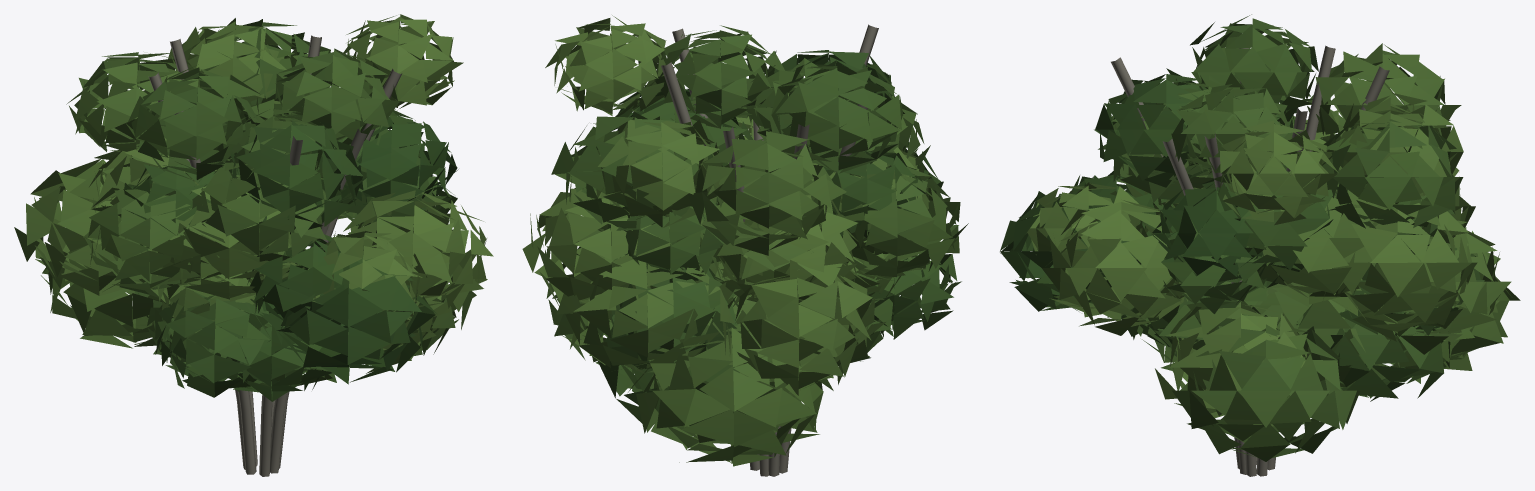
Rendered from sitka-alder-lod0.glb.
3 renders of one model, left to right at view 1: azimuth 30°, elevation 25°; view 2: azimuth 150°, elevation 25°; view 3: azimuth 270°, elevation 25°, orthographic.
Visible parts, largest first — view 1: sitka-alder-lod0; view 2: sitka-alder-lod0; view 3: sitka-alder-lod0.
Boxes of the visible parts, <box> form: sitka-alder-lod0: <box>14,14,493,476</box>; sitka-alder-lod0: <box>522,15,968,476</box>; sitka-alder-lod0: <box>1000,14,1520,476</box>.
Bounding box in the file's own units: 2.67 × 2.73 × 3.13.
